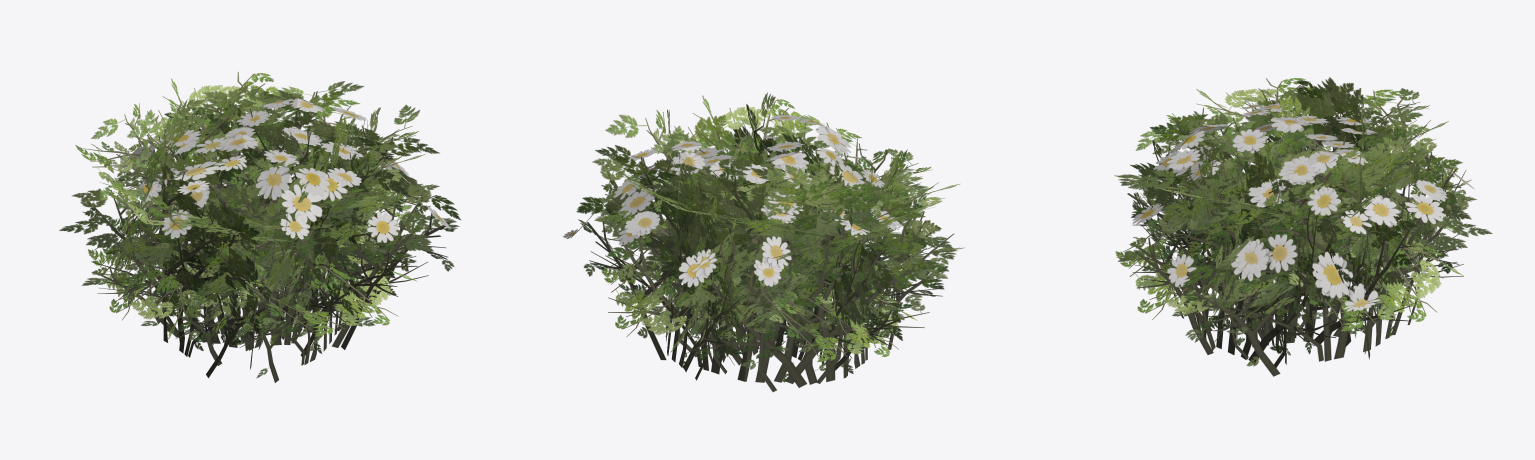
Rendered from Bush6_Flower.gltf.
The picture shows the model from 3 angles, left to right: view 1: azimuth 30°, elevation 25°; view 2: azimuth 150°, elevation 25°; view 3: azimuth 270°, elevation 25°; orthographic projection. The views are drawn at different scales.
Visible parts, largest first — view 1: Object_144, Object_143, Object_142, Object_145, Object_146, Object_141; view 2: Object_142, Object_144, Object_145, Object_143, Object_141, Object_146; view 3: Object_144, Object_143, Object_142, Object_146, Object_145, Object_141.
Boxes of the visible parts, bbox=[...] form: Object_144: bbox=[75, 72, 425, 369]; Object_143: bbox=[59, 107, 456, 382]; Object_142: bbox=[108, 81, 460, 324]; Object_145: bbox=[162, 123, 391, 377]; Object_146: bbox=[159, 117, 450, 242]; Object_141: bbox=[122, 98, 367, 238]; Object_142: bbox=[576, 109, 964, 383]; Object_144: bbox=[601, 92, 959, 363]; Object_145: bbox=[594, 144, 957, 391]; Object_143: bbox=[577, 104, 953, 373]; Object_141: bbox=[625, 115, 901, 287]; Object_146: bbox=[563, 134, 884, 245]; Object_144: bbox=[1114, 78, 1462, 354]; Object_143: bbox=[1118, 97, 1492, 367]; Object_142: bbox=[1180, 77, 1471, 376]; Object_146: bbox=[1132, 103, 1445, 311]; Object_145: bbox=[1118, 79, 1471, 364]; Object_141: bbox=[1167, 118, 1474, 215].
Size of the model in its own units: 44.36 by 28.77 by 42.63.
Materials: 6 (6 with a texture image).
